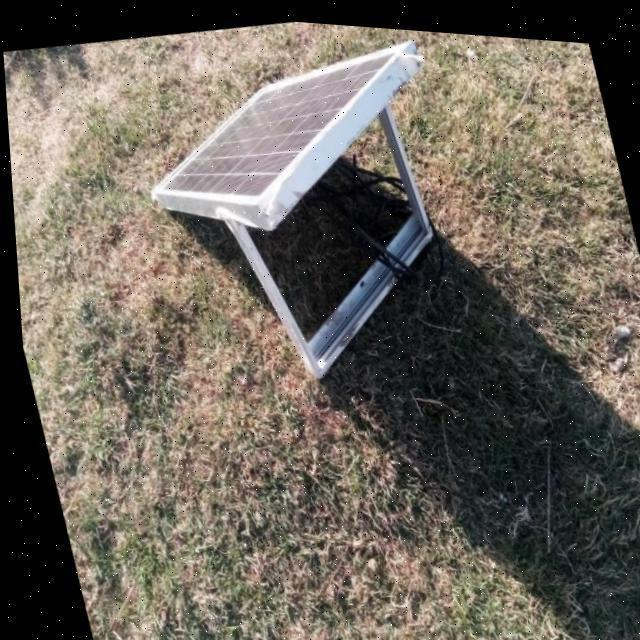Normal Solar Panel: (119, 16, 448, 231)
